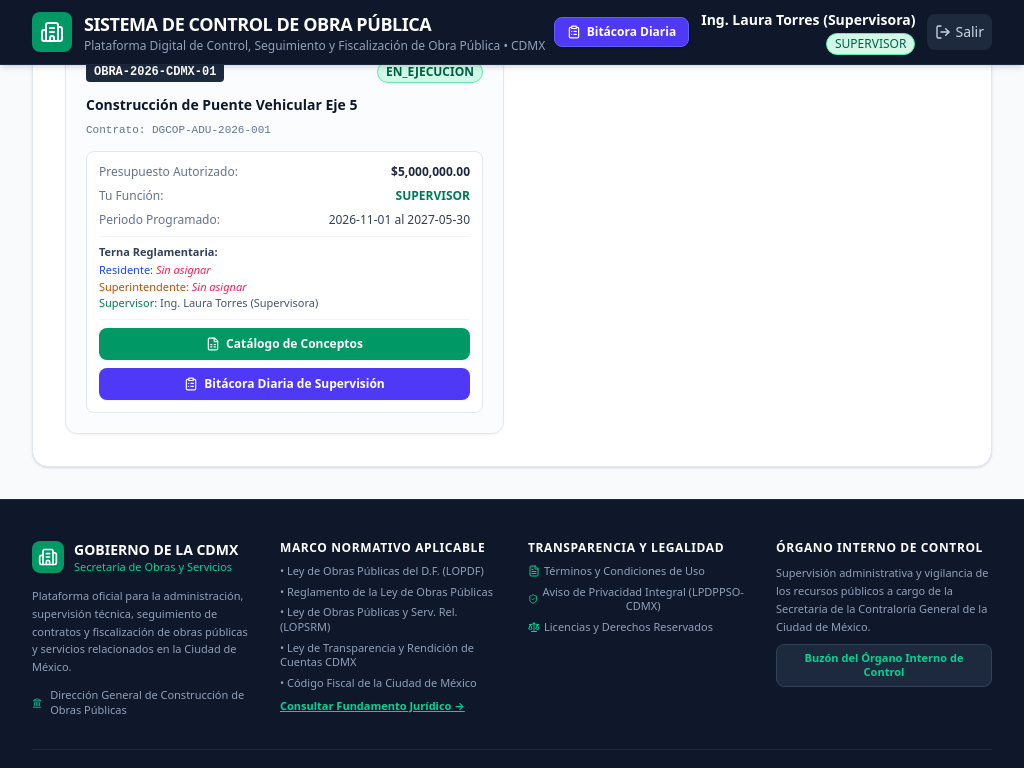
Sprint 6: Reporte Diario de Supervisión y Bitácora (HU-034 a HU-040) › HU-040: debe permitir abrir el modal de Bitácora Diaria y consultar los reportes registrados
(page scrolled)
Step 1. Click the button "Bitácora Diaria de Supervisión" → coordinates (284, 384), box [99, 368, 470, 400]
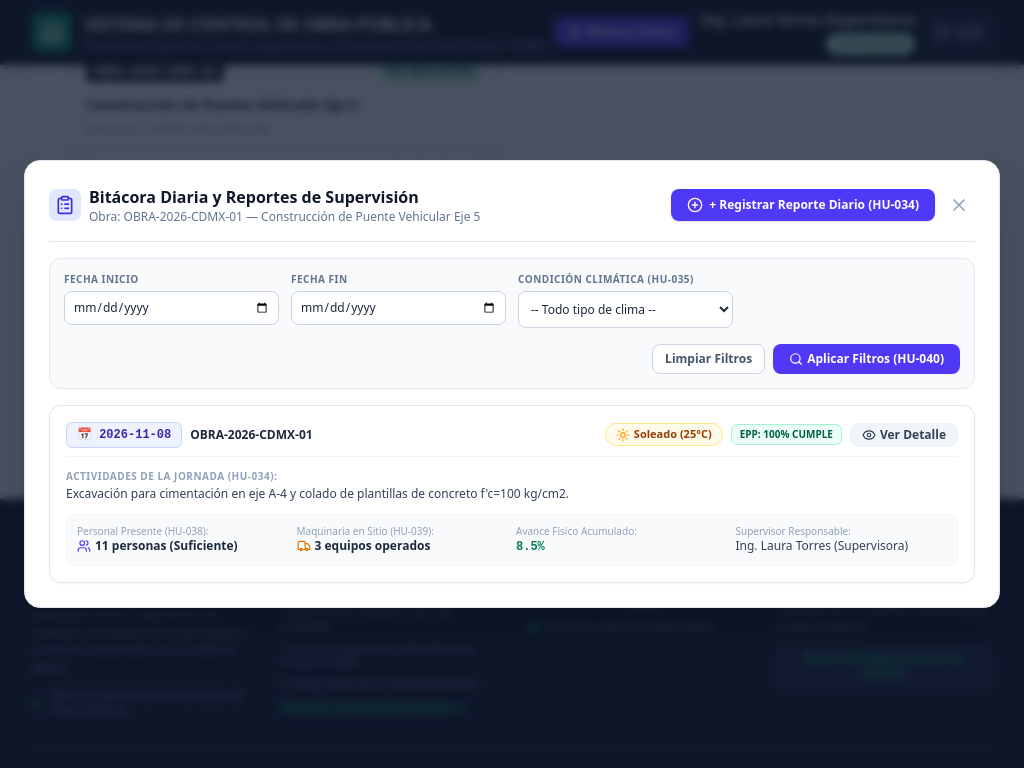
Now the heading "Bitácora Diaria y Reportes de Supervisión" is shown, box [89, 186, 419, 208]
Now the text "📅 2026-11-08" is shown, box [66, 422, 182, 448]
Now the text "Excavación para cimentación en eje A-4 y colado de plantillas" is shown, box [66, 484, 569, 502]
